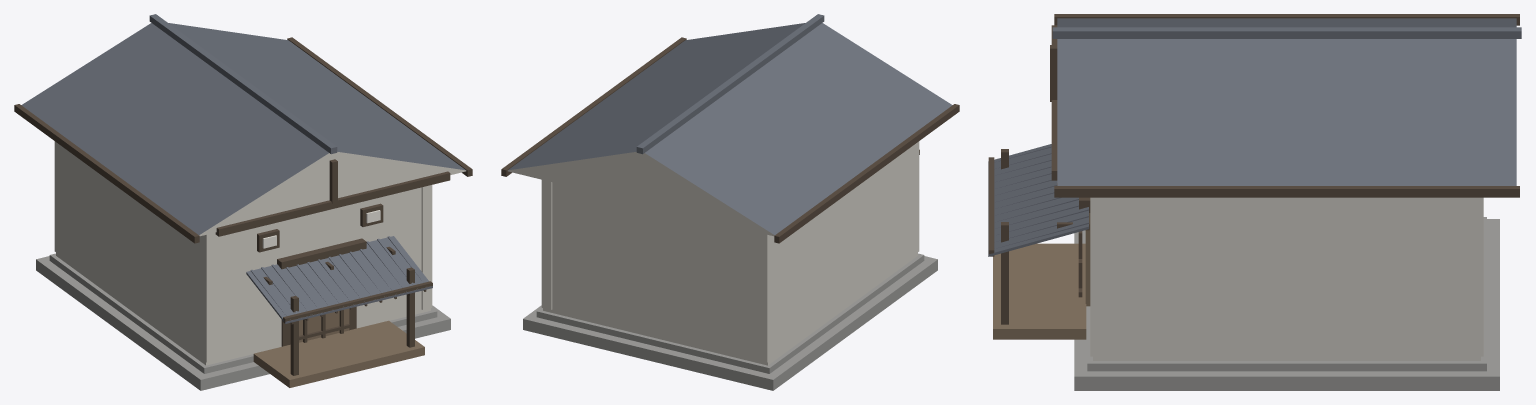
File: family_kura_loading.glb
3 renders of one model, left to right at view 1: azimuth 30°, elevation 25°; view 2: azimuth 150°, elevation 25°; view 3: azimuth 270°, elevation 25°, orthographic. The views are drawn at different scales.
Visible parts, largest first — view 1: family_kura_loading; view 2: family_kura_loading; view 3: family_kura_loading.
Part boxes in pixels (left/top/right/bottom): family_kura_loading: left=14, top=14, right=472, bottom=390; family_kura_loading: left=501, top=14, right=959, bottom=390; family_kura_loading: left=988, top=14, right=1521, bottom=390.
Bounding box in the file's own units: 7.9 × 5.95 × 10.17.
